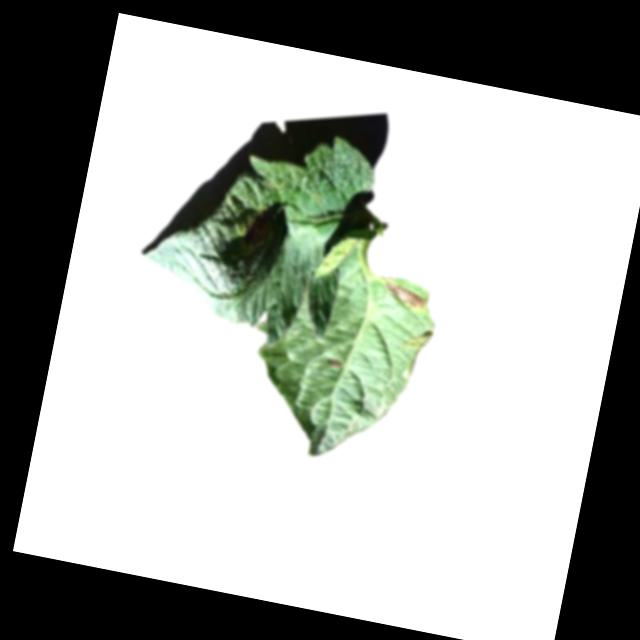Early_blight: (379, 284, 430, 316), (325, 356, 344, 369)
